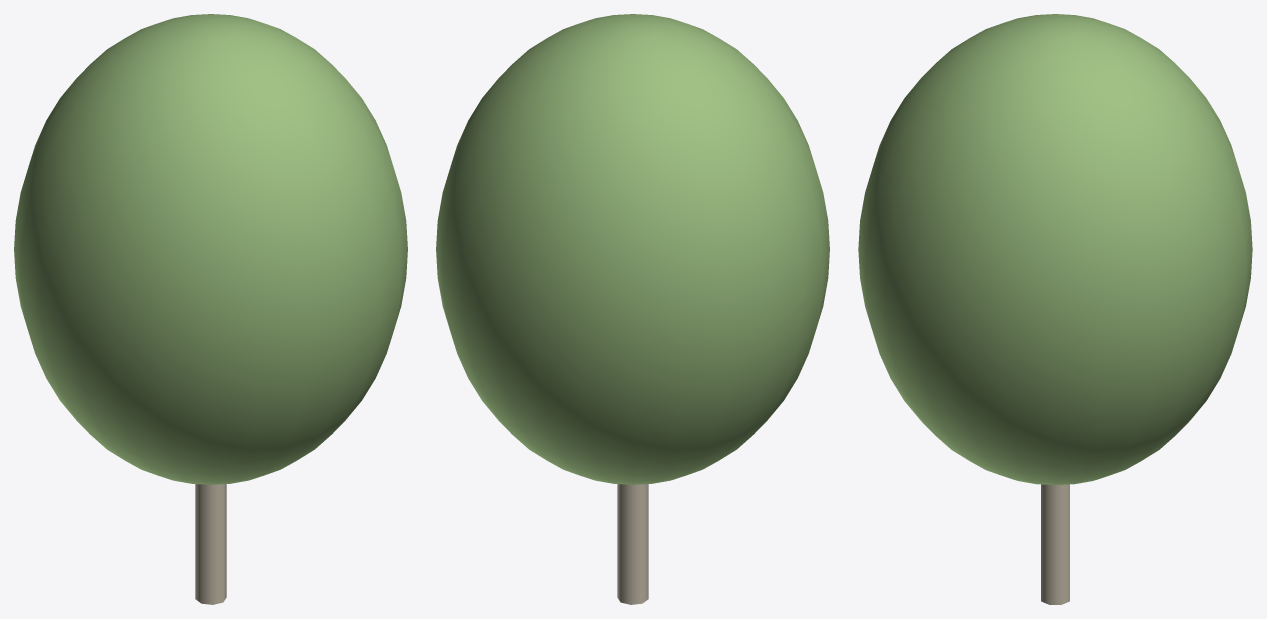
File: PlatanusOccidentalis.glb
3 views of the same model, side by side, from view 1: azimuth 30°, elevation 25°; view 2: azimuth 150°, elevation 25°; view 3: azimuth 270°, elevation 25° (orthographic).
Visible parts, largest first — view 1: American_Sycamore__Schematic_LOD3; view 2: American_Sycamore__Schematic_LOD3; view 3: American_Sycamore__Schematic_LOD3.
Boxes of the visible parts, x1,y1,x2,y2 form: American_Sycamore__Schematic_LOD3: (14,14,407,604); American_Sycamore__Schematic_LOD3: (436,14,829,604); American_Sycamore__Schematic_LOD3: (858,14,1252,604).
Bounding box in the file's own units: 17.88 × 28.51 × 17.88.
